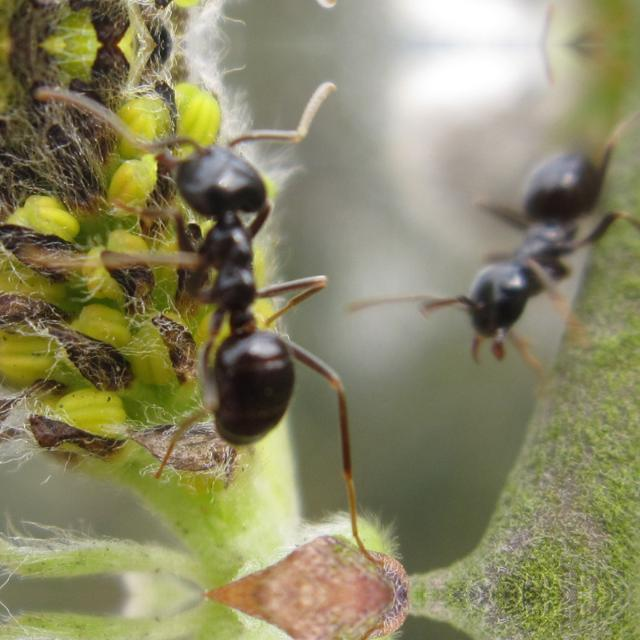Lasius: (150, 101, 354, 461), (446, 124, 602, 380)
